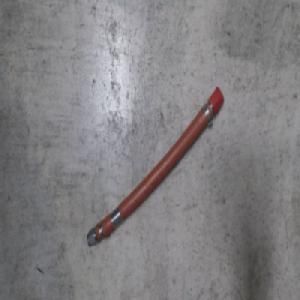Hose: (86, 90, 226, 252)
